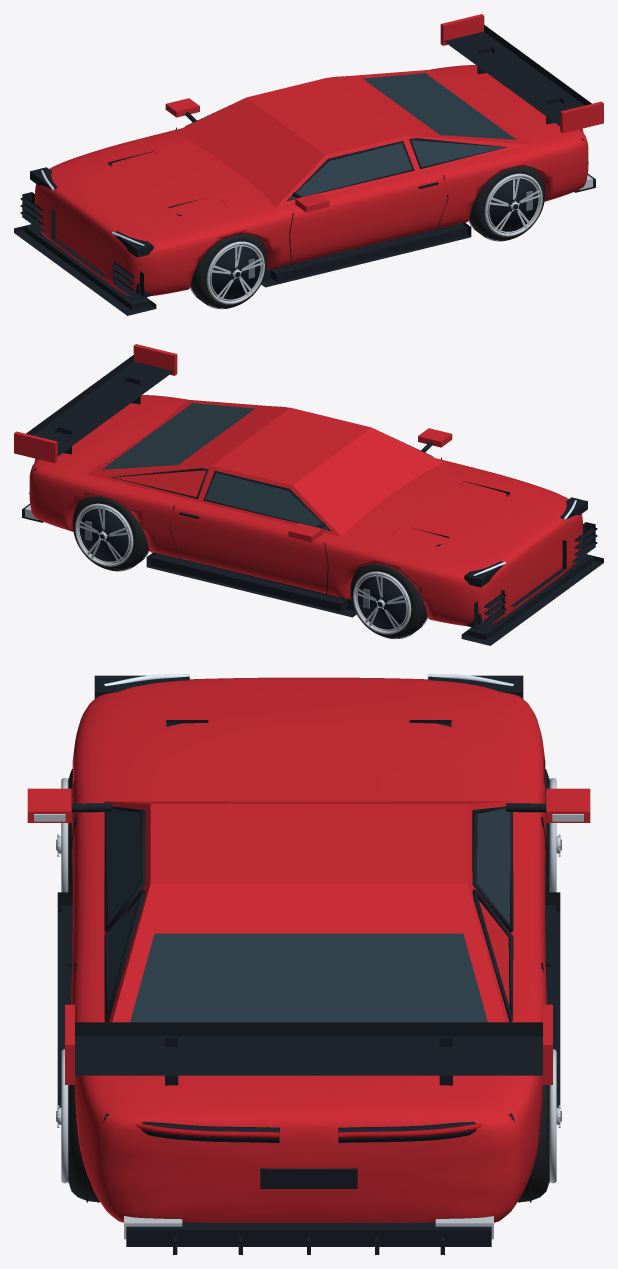
File: car2.glb
3 renders of one model, top to bottom at view 1: azimuth 30°, elevation 25°; view 2: azimuth 150°, elevation 25°; view 3: azimuth 270°, elevation 25°, orthographic. The views are drawn at different scales.
Visible parts, largest first — view 1: SPORT | Low sculpted body, SPORT | Swept coupe roof, SPORT | Wheel cap inset, SPORT | Wide central intake, SPORT | Long door window, SPORT | Road tire.002, SPORT | Machined rim lip.003, SPORT | Twin spoke alloy.002; view 2: SPORT | Low sculpted body, SPORT | Swept coupe roof, SPORT | Wheel cap inset, SPORT | Wide central intake, SPORT | Long door window, SPORT | Road tire.002, SPORT | Machined rim lip.003, SPORT | Twin spoke alloy.002; view 3: SPORT | Low sculpted body, SPORT | Swept coupe roof, SPORT | Long door window, SPORT | Wide central intake, SPORT | Wheel cap inset, SPORT | Machined rim lip.003, SPORT | Road tire.002, SPORT | Red tail signature.
Part boxes in pixels (x1,y1,x2,y2): SPORT | Low sculpted body: [35, 65, 588, 295]; SPORT | Swept coupe roof: [174, 14, 603, 206]; SPORT | Wheel cap inset: [24, 76, 595, 310]; SPORT | Wide central intake: [14, 25, 591, 315]; SPORT | Long door window: [289, 73, 516, 199]; SPORT | Road tire.002: [190, 166, 545, 308]; SPORT | Machined rim lip.003: [206, 173, 592, 304]; SPORT | Twin spoke alloy.002: [211, 177, 540, 299]; SPORT | Low sculpted body: [29, 395, 582, 625]; SPORT | Swept coupe roof: [14, 344, 443, 536]; SPORT | Wheel cap inset: [22, 406, 593, 640]; SPORT | Wide central intake: [26, 355, 603, 645]; SPORT | Long door window: [101, 403, 328, 529]; SPORT | Road tire.002: [72, 496, 427, 638]; SPORT | Machined rim lip.003: [25, 503, 411, 634]; SPORT | Twin spoke alloy.002: [77, 507, 406, 629]; SPORT | Low sculpted body: [27, 677, 590, 1222]; SPORT | Swept coupe roof: [65, 801, 552, 1084]; SPORT | Long door window: [107, 808, 510, 1022]; SPORT | Wide central intake: [57, 720, 560, 1107]; SPORT | Wheel cap inset: [56, 675, 561, 1254]; SPORT | Machined rim lip.003: [34, 778, 583, 1239]; SPORT | Road tire.002: [69, 769, 548, 1202]; SPORT | Red tail signature: [105, 1116, 512, 1138].
Bounding box in the file's own units: 5.04 × 1.19 × 2.54.
